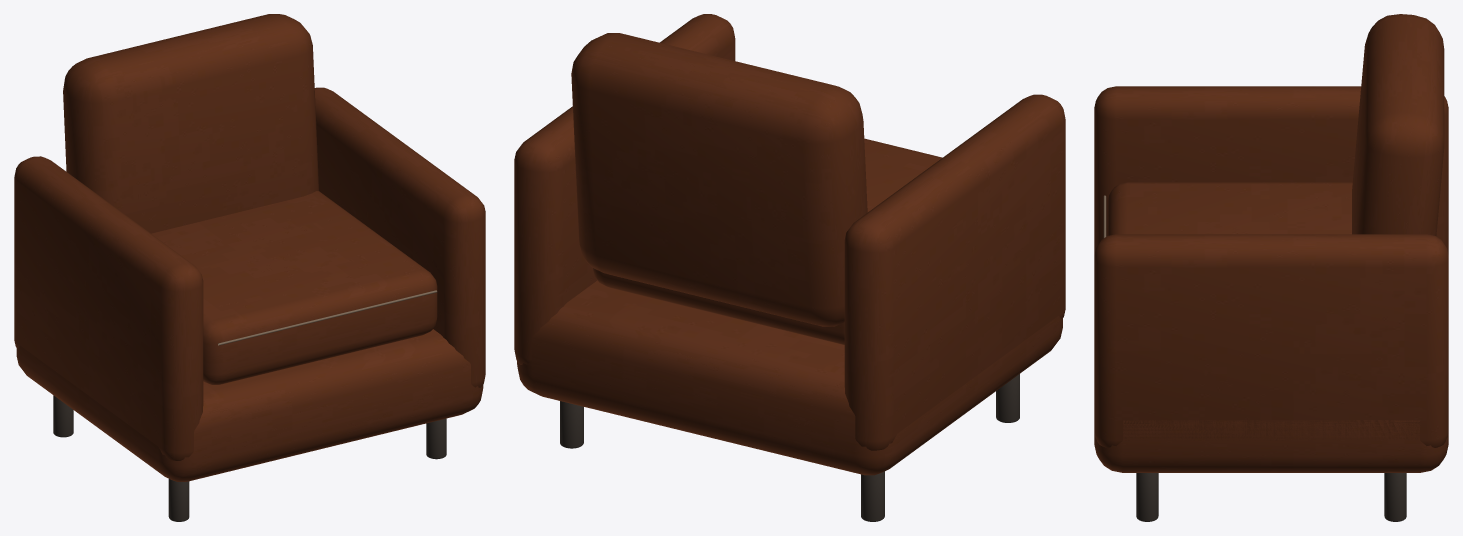
Rendered from armchair-v1.glb.
3 views of the same model, side by side, from view 1: azimuth 30°, elevation 25°; view 2: azimuth 150°, elevation 25°; view 3: azimuth 270°, elevation 25° (orthographic). The views are drawn at different scales.
Parts seen in each view (by area): view 1: Bronze sofa foot; view 2: Bronze sofa foot; view 3: Bronze sofa foot.
Part boxes in pixels (x1,y1,x2,y2): Bronze sofa foot: (14, 14, 485, 521); Bronze sofa foot: (514, 14, 1065, 521); Bronze sofa foot: (1094, 14, 1448, 521).
Bounding box in the file's own units: 0.9 × 0.9603 × 0.8.
Materials: 3 (1 with a texture image).
